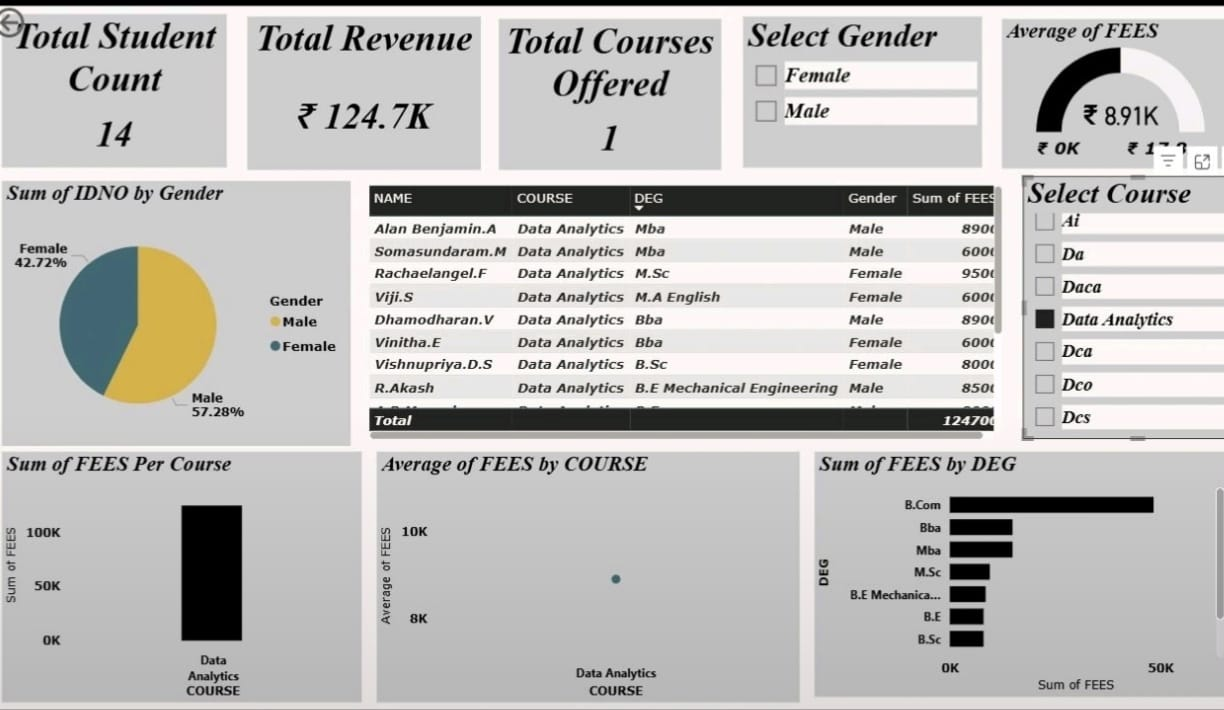

This screenshot's page, from the dashboard's own definition file:
{"tool":"powerbi","page":{"name":"Page 1","canvas":[1280,720],"ordinal":0},"visuals":[{"type":"card","title":"Total Student Count","fields":{"Values":["CountNonNull(Sheet2.IDNO)"]},"box":[12.8,11.4,228.1,155.4],"z":0},{"type":"card","title":"Total Revenue","fields":{"Values":["Sum(Sheet2.FEES)"]},"box":[260.8,14.3,236.6,155.4],"z":1000},{"type":"card","title":"Total Courses Offered","fields":{"Values":["Count(Sheet2.COURSE)"]},"box":[516,15.7,225.2,152.5],"z":2000},{"type":"slicer","title":"Select Course","fields":{"Values":["Sheet2.COURSE"]},"box":[1047.7,175.3,232.3,266.5],"z":3000},{"type":"slicer","title":"Select Gender","fields":{"Values":["Sheet2.Gender"]},"box":[764,14.3,242.3,152.5],"z":4000},{"type":"clusteredColumnChart","title":"Sum of FEES Per Course","fields":{"Category":["Sheet2.COURSE"],"Y":["Sum(Sheet2.FEES)"]},"box":[12.8,453.3,364.9,253.7],"z":5000},{"type":"clusteredBarChart","fields":{"Y":["Sum(Sheet2.FEES)"],"Category":["Sheet2.DEG"]},"box":[836.7,453.3,420.5,248],"z":6000},{"type":"areaChart","fields":{"Category":["Sheet2.COURSE"],"Y":["Avg(Sheet2.FEES)"]},"box":[392,453.3,429,253.7],"z":8000},{"type":"tableEx","fields":{"Values":["Sheet2.NAME","Sheet2.COURSE","Sheet2.DEG","Sheet2.Gender","Sum(Sheet2.FEES)"]},"box":[379.2,179.6,652.8,266.5],"z":9000},{"type":"actionButton","box":[0,0,100,40],"z":10000},{"type":"gauge","fields":{"Y":["Avg(Sheet2.FEES)"]},"box":[1026.3,15.7,240.9,151.1],"z":11000},{"type":"pieChart","fields":{"Category":["Sheet2.Gender"],"Y":["Sum(Sheet2.IDNO)"]},"box":[12.8,179.6,353.5,268],"z":11001}]}

Visuals, with their boxes on the page's 1280x720 design canvas (x1, y1, x2, y2). These are canvas units, not pixel positions in the 1224x710 screenshot, which may show the page scaled, cropped or inside an application window:
"Total Student Count" card: 13:11:241:167
"Total Revenue" card: 261:14:497:170
"Total Courses Offered" card: 516:16:741:168
"Select Course" slicer: 1048:175:1280:442
"Select Gender" slicer: 764:14:1006:167
"Sum of FEES Per Course" clusteredColumnChart: 13:453:378:707
clusteredBarChart - Sum(Sheet2.FEES) x Sheet2.DEG: 837:453:1257:701
areaChart - Sheet2.COURSE x Avg(Sheet2.FEES): 392:453:821:707
tableEx - Sheet2.NAME x Sheet2.COURSE: 379:180:1032:446
actionButton: 0:0:100:40
gauge - Avg(Sheet2.FEES): 1026:16:1267:167
pieChart - Sheet2.Gender x Sum(Sheet2.IDNO): 13:180:366:448
